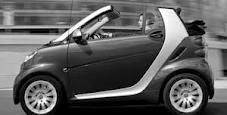car: (12, 4, 220, 115)
